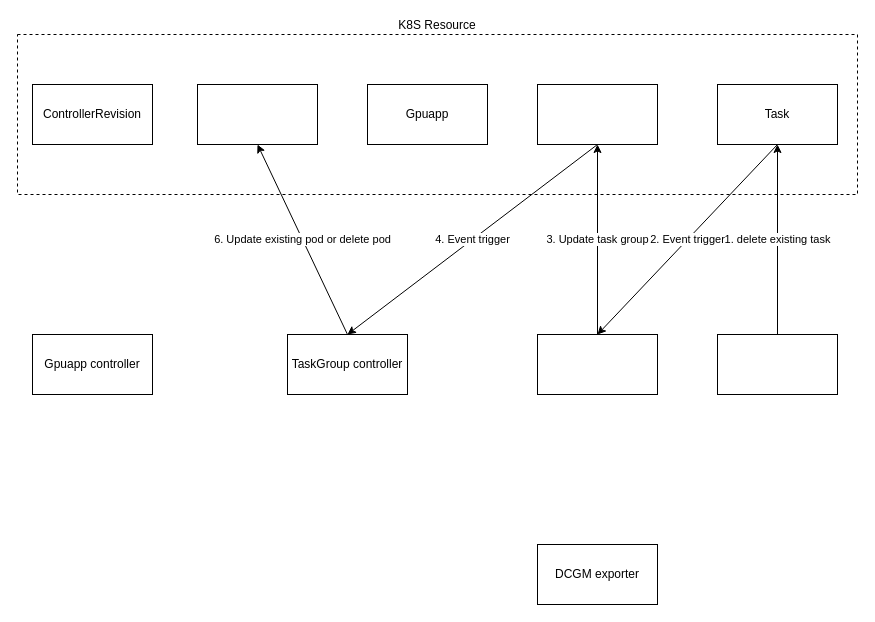
The diagram is 875 pixels wide and 622 high, and some of its shapes have lost their labels. The box of each missing label's shape, as (x1, y1, x2, y2) in pixels:
ds-config: (716, 334, 838, 394)
Pod: (196, 84, 318, 144)
Task controller: (536, 334, 658, 394)
TaskGroup: (536, 84, 658, 144)
